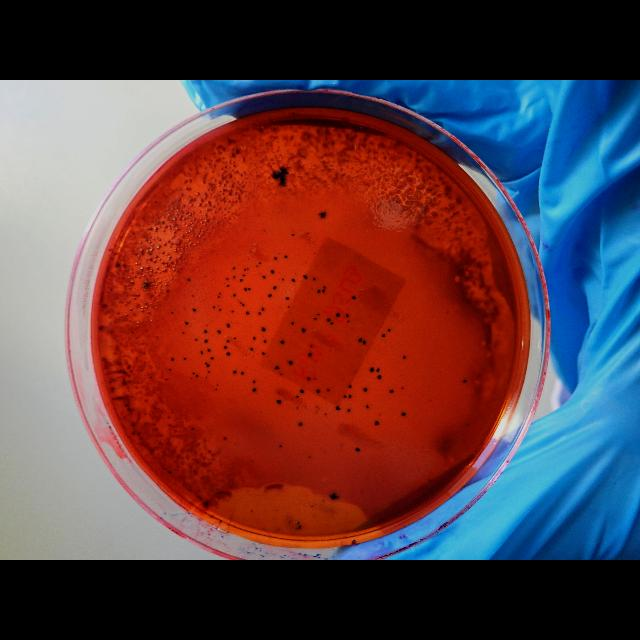colony: (270, 165, 292, 187), (329, 492, 339, 502), (319, 211, 327, 219), (203, 500, 209, 508), (302, 274, 308, 280), (266, 292, 272, 298), (260, 326, 266, 332), (288, 360, 294, 366), (362, 386, 368, 392), (376, 374, 382, 380), (374, 420, 380, 426), (302, 326, 306, 334), (272, 286, 278, 290), (284, 296, 290, 300), (184, 321, 190, 325), (216, 330, 222, 334), (226, 323, 230, 329), (204, 338, 208, 344), (206, 348, 212, 352), (263, 338, 267, 344), (336, 312, 340, 318), (317, 288, 321, 294), (98, 326, 104, 330), (252, 388, 258, 392), (274, 366, 280, 370), (316, 388, 320, 394), (300, 388, 304, 394), (276, 400, 282, 404), (335, 406, 341, 410), (370, 367, 374, 373), (228, 138, 232, 144), (356, 446, 360, 452), (284, 254, 288, 258), (274, 256, 278, 260), (271, 270, 275, 274), (291, 278, 295, 282), (312, 277, 316, 281), (262, 275, 266, 279), (239, 278, 243, 282), (244, 288, 248, 292), (247, 287, 251, 291), (246, 311, 250, 315), (258, 311, 262, 315), (218, 308, 222, 312), (192, 308, 196, 312), (204, 330, 208, 334), (223, 345, 227, 349), (200, 350, 204, 354), (226, 352, 230, 356), (250, 347, 254, 351), (262, 352, 266, 356), (280, 340, 284, 344), (316, 312, 320, 316), (327, 318, 331, 322), (352, 296, 356, 300), (321, 289, 325, 293), (226, 283, 230, 287), (194, 338, 198, 342), (170, 357, 174, 361), (183, 357, 187, 361), (233, 370, 237, 374), (240, 371, 244, 375), (308, 352, 312, 356), (310, 344, 314, 348), (296, 395, 300, 399), (298, 422, 302, 426), (347, 408, 351, 412), (348, 394, 352, 398), (343, 394, 347, 398), (348, 384, 352, 388), (376, 368, 380, 372), (402, 355, 406, 359), (387, 328, 391, 332), (381, 334, 385, 338), (362, 340, 366, 344), (358, 338, 362, 342), (365, 405, 369, 409), (390, 389, 394, 393), (402, 412, 406, 416), (282, 276, 284, 282), (232, 293, 235, 297), (210, 356, 214, 359), (207, 363, 210, 367), (252, 336, 255, 340), (232, 266, 235, 270), (326, 388, 329, 392), (168, 471, 172, 474), (252, 381, 255, 384), (258, 262, 262, 264), (256, 264, 258, 268), (218, 292, 222, 294), (232, 309, 234, 313), (226, 340, 230, 342), (292, 321, 294, 325), (313, 318, 317, 320), (330, 322, 334, 324), (346, 314, 348, 318), (233, 276, 237, 278), (225, 277, 229, 279), (188, 278, 190, 282), (169, 368, 171, 372), (196, 374, 198, 378), (208, 370, 210, 374), (308, 376, 310, 380), (280, 444, 282, 448), (146, 284, 150, 286), (242, 274, 245, 276), (212, 306, 215, 308), (234, 336, 236, 339), (205, 362, 208, 364), (170, 312, 173, 314), (132, 331, 134, 334), (165, 378, 168, 380), (192, 372, 195, 374), (224, 436, 226, 439), (292, 234, 294, 236), (294, 273, 296, 275), (247, 268, 249, 270), (244, 269, 246, 271), (262, 307, 264, 309), (262, 309, 264, 311), (242, 304, 244, 306), (218, 296, 220, 298), (347, 320, 349, 322), (323, 286, 325, 288), (263, 230, 265, 232), (192, 295, 194, 297), (240, 302, 242, 304), (182, 332, 184, 334), (150, 376, 152, 378), (190, 377, 192, 379), (205, 376, 207, 378), (216, 384, 218, 386), (215, 388, 217, 390), (314, 378, 316, 380), (192, 428, 194, 430), (324, 413, 326, 415), (464, 380, 466, 382), (194, 470, 196, 472), (296, 407, 298, 409), (402, 387, 404, 389)
